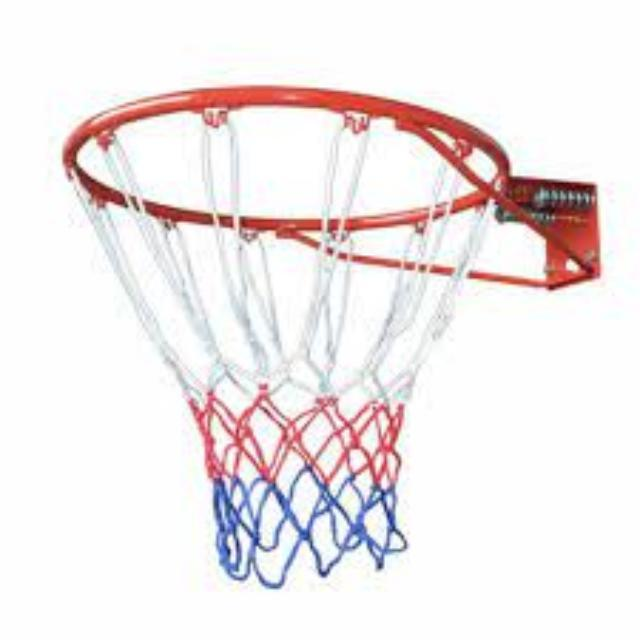rim: (59, 86, 509, 594)
